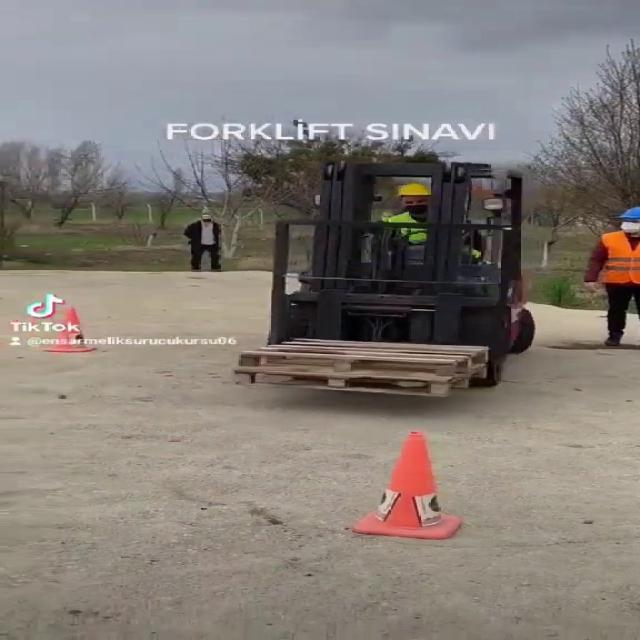forklift: (259, 158, 549, 396)
person: (365, 174, 479, 276), (576, 200, 640, 345)
